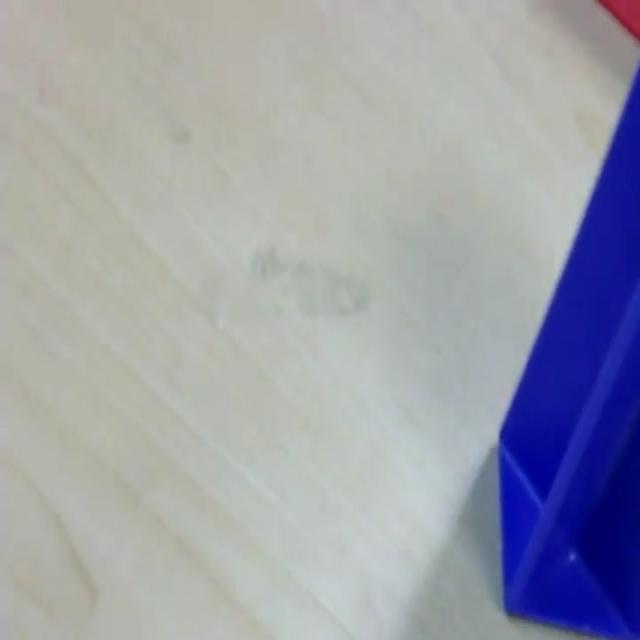blue_block: (496, 59, 638, 636)
